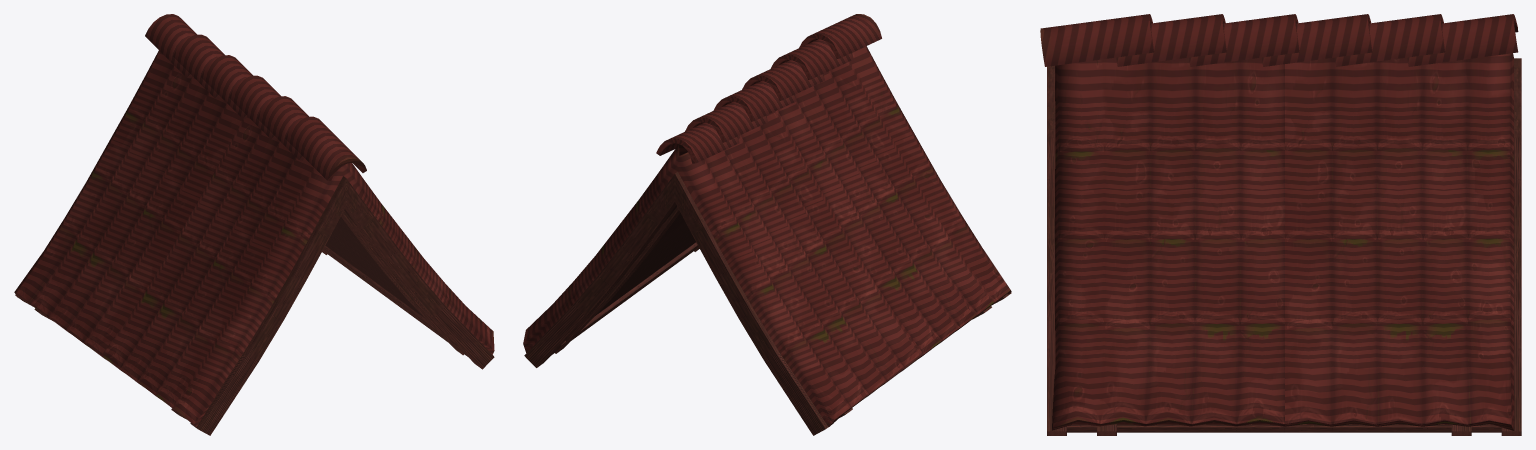
The picture shows the model from 3 angles, left to right: view 1: azimuth 30°, elevation 25°; view 2: azimuth 150°, elevation 25°; view 3: azimuth 270°, elevation 25°; orthographic projection. The views are drawn at different scales.
Visible parts, largest first — view 1: Roof_RoundTiles_4x4; view 2: Roof_RoundTiles_4x4; view 3: Roof_RoundTiles_4x4.
Boxes of the visible parts, left/top/right/bottom form: Roof_RoundTiles_4x4: left=14, top=14, right=494, bottom=435; Roof_RoundTiles_4x4: left=523, top=14, right=1011, bottom=435; Roof_RoundTiles_4x4: left=1040, top=14, right=1521, bottom=435.
Size of the model in its own units: 5.51 by 4.25 by 5.56.
2 materials, 2 textured.
